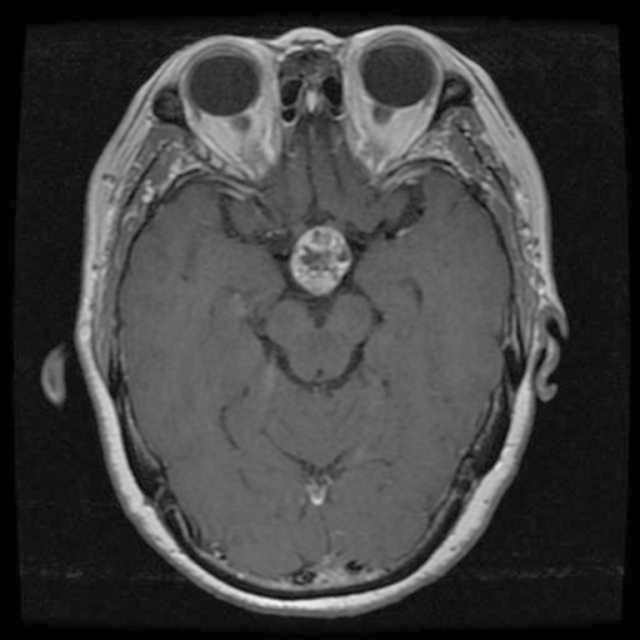no tumor: (282, 215, 346, 296)
